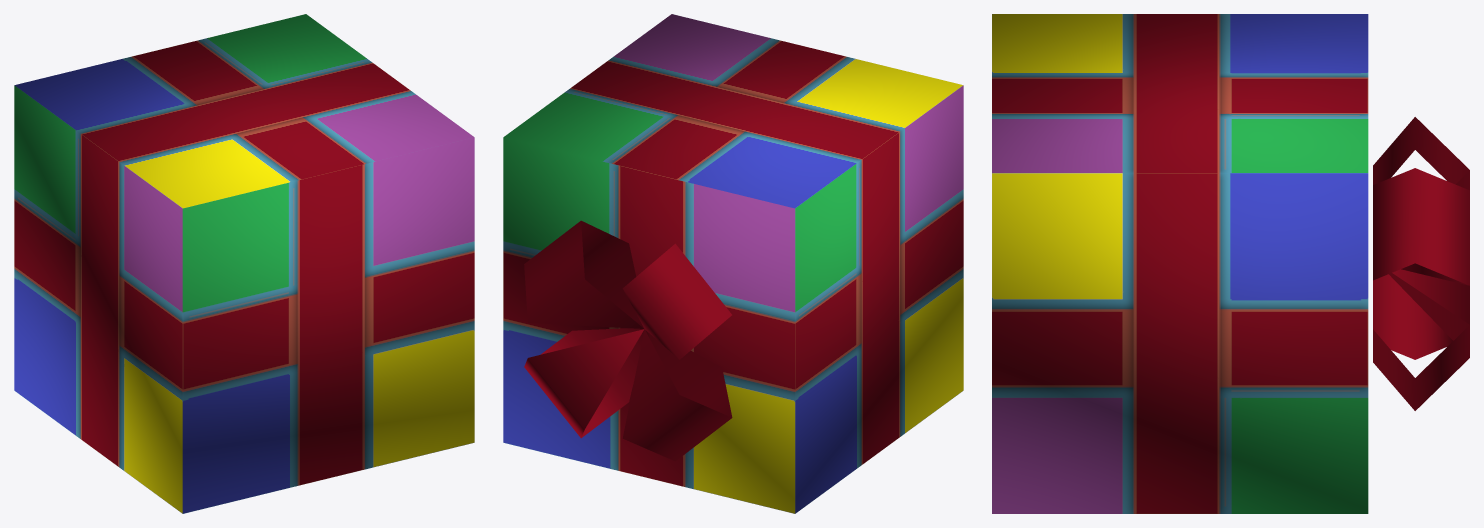
The model's file is Present_blue_a.fbx.
The picture shows the model from 3 angles, left to right: view 1: azimuth 30°, elevation 25°; view 2: azimuth 150°, elevation 25°; view 3: azimuth 270°, elevation 25°; orthographic projection. The views are drawn at different scales.
Visible parts, largest first — view 1: Present_blue_a; view 2: Present_blue_a; view 3: Present_blue_a.
Part boxes in pixels (<box>): Present_blue_a: <box>14,14,474,513</box>; Present_blue_a: <box>503,14,963,513</box>; Present_blue_a: <box>992,14,1469,513</box>.
Bounding box in the file's own units: 49.8 × 49.8 × 63.24.
